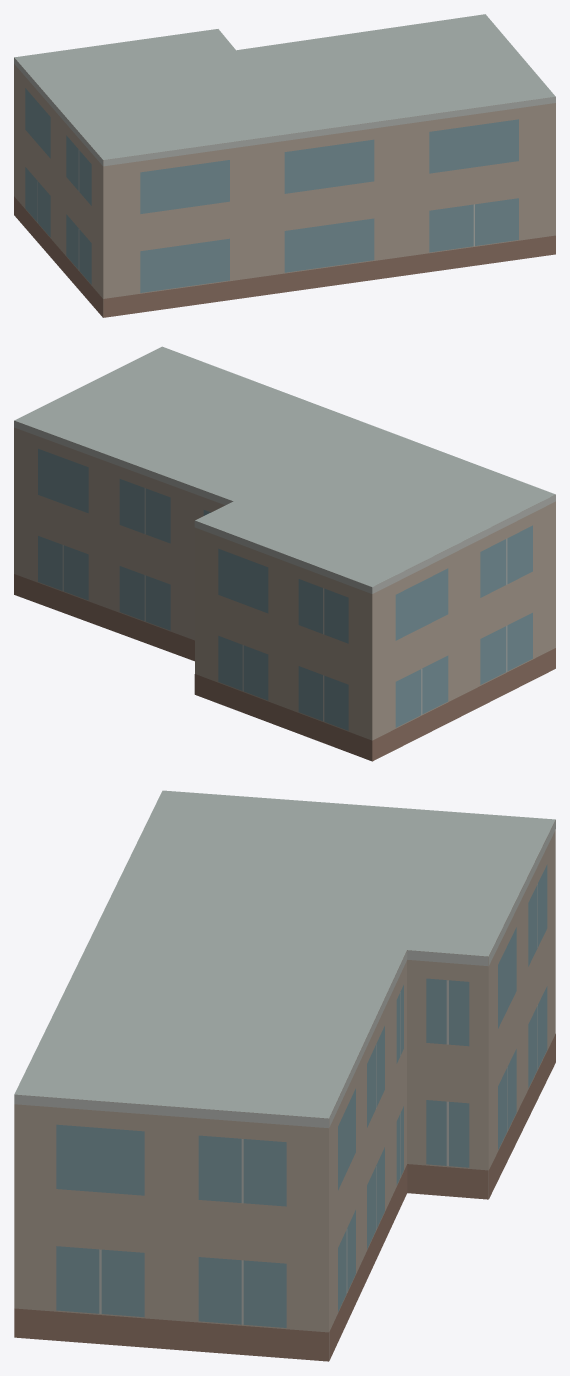
The model's file is survey-upis-32662619.glb.
3 renders of one model, top to bottom at view 1: azimuth 30°, elevation 25°; view 2: azimuth 150°, elevation 25°; view 3: azimuth 270°, elevation 25°, orthographic. The views are drawn at different scales.
Visible parts, largest first — view 1: survey-upis-32662619.tmp; view 2: survey-upis-32662619.tmp; view 3: survey-upis-32662619.tmp.
Part boxes in pixels (left/top/right/bottom): survey-upis-32662619.tmp: left=14, top=14, right=555, bottom=317; survey-upis-32662619.tmp: left=14, top=346, right=555, bottom=761; survey-upis-32662619.tmp: left=14, top=790, right=555, bottom=1361.
Size of the model in its own units: 17.68 by 6.1 by 12.33.
